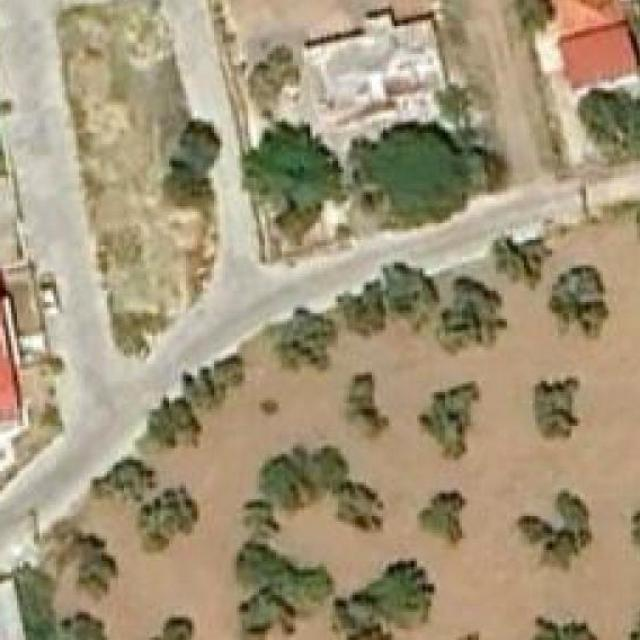Tree: (349, 119, 505, 221), (242, 122, 347, 246), (228, 542, 326, 638), (329, 557, 436, 640), (518, 491, 592, 570), (163, 122, 220, 221), (417, 384, 479, 463), (549, 266, 603, 345), (138, 486, 200, 553), (578, 86, 640, 153), (338, 370, 392, 442), (448, 279, 502, 345), (274, 311, 333, 371), (60, 533, 116, 593), (417, 488, 468, 553), (494, 237, 556, 290), (147, 392, 200, 452), (394, 262, 440, 328), (533, 378, 578, 441), (344, 277, 386, 337), (94, 457, 156, 497), (265, 460, 310, 505), (56, 609, 112, 640), (530, 617, 600, 640), (314, 445, 351, 488), (347, 488, 384, 527), (240, 499, 277, 536), (146, 617, 195, 640), (259, 398, 280, 418), (456, 634, 479, 640)
